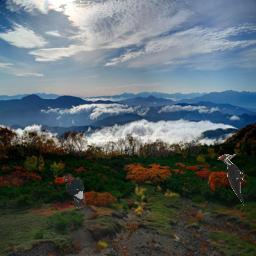Woodpecker: (217, 154, 244, 207), (62, 173, 86, 208)
